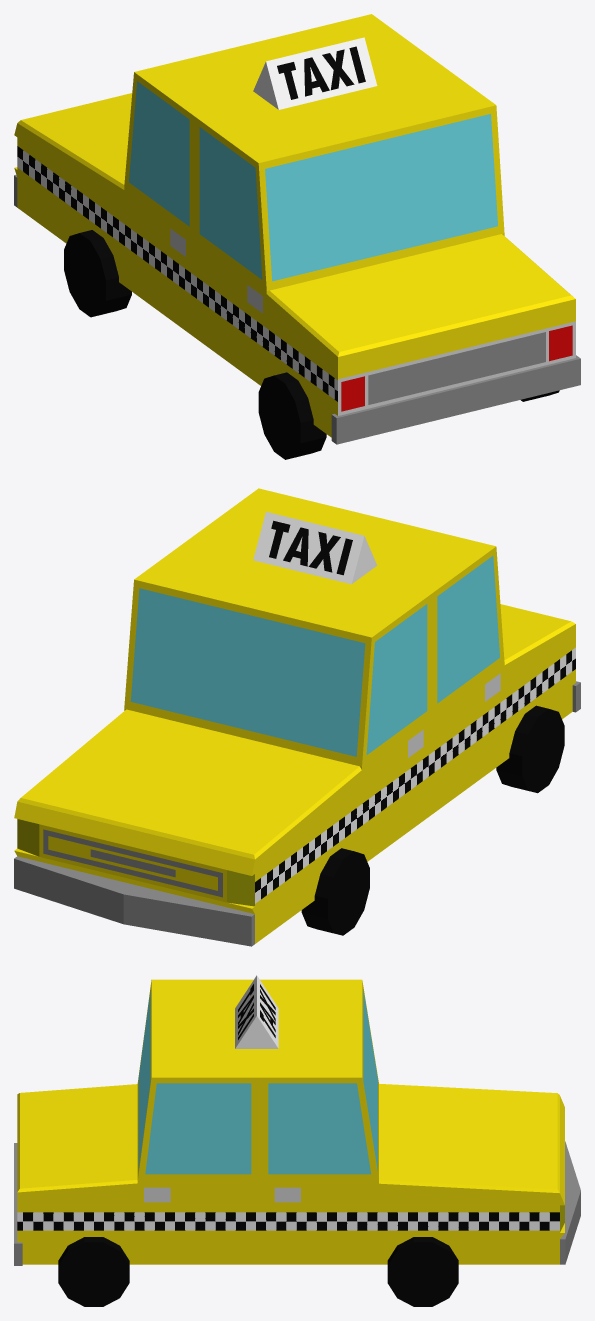
Rendered from Car_Taxi.fbx.
3 views of the same model, one above another, from view 1: azimuth 30°, elevation 25°; view 2: azimuth 150°, elevation 25°; view 3: azimuth 270°, elevation 25° (orthographic). The views are drawn at different scales.
Visible parts, largest first — view 1: Model; view 2: Model; view 3: Model.
Part boxes in pixels (x1,y1,x2,y2): Model: [14, 14, 580, 459]; Model: [14, 488, 580, 946]; Model: [14, 975, 580, 1306].
Size of the model in its own units: 30.34 by 33.38 by 66.76.
